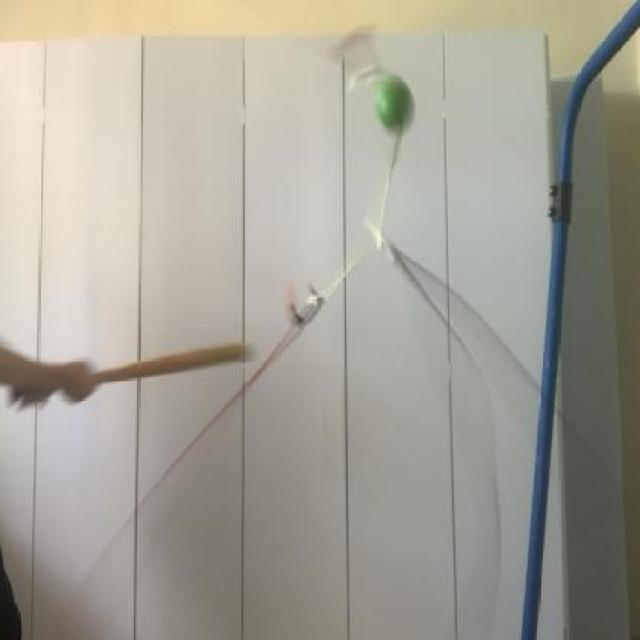baseball: (356, 65, 427, 141)
